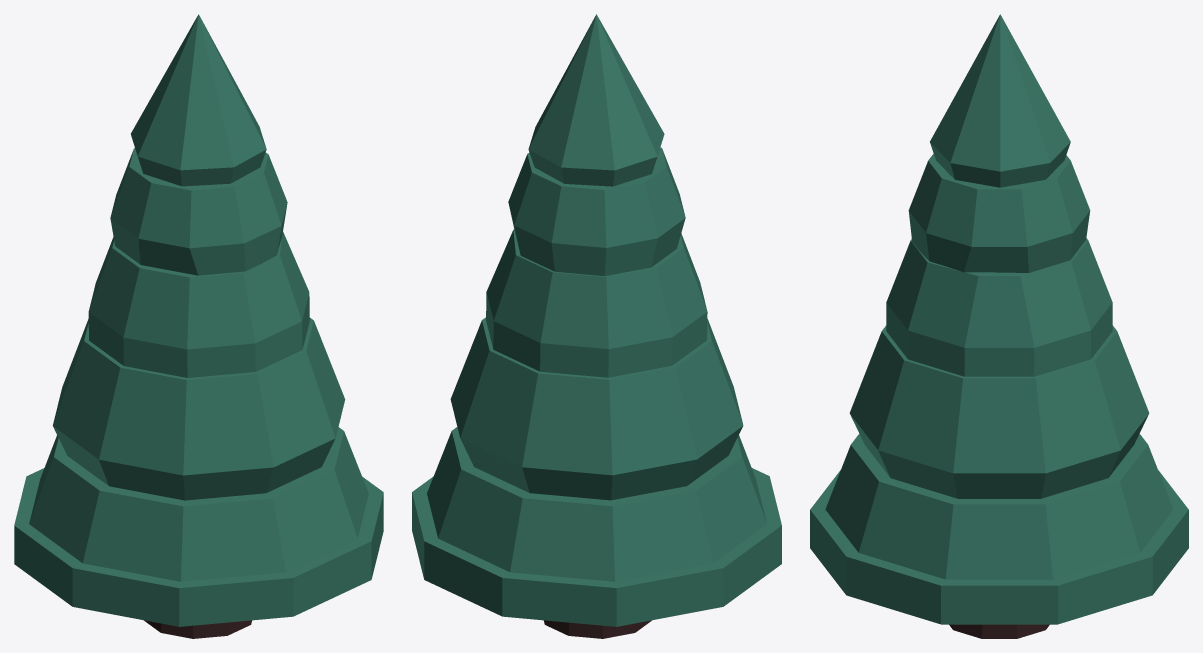
The model's file is arvore_grande[1].fbx.
3 views of the same model, side by side, from view 1: azimuth 30°, elevation 25°; view 2: azimuth 150°, elevation 25°; view 3: azimuth 270°, elevation 25° (orthographic).
Visible parts, largest first — view 1: Cylinder.001, Cylinder.002, Cylinder.004, Cylinder.006, Cone, Cylinder; view 2: Cylinder.001, Cylinder.002, Cylinder.004, Cylinder.006, Cone, Cylinder; view 3: Cylinder.001, Cylinder.002, Cylinder.004, Cylinder.006, Cone, Cylinder.
Boxes of the visible parts, x1,y1,x2,y2 form: Cylinder.001: (14, 427, 383, 626); Cylinder.002: (52, 317, 345, 500); Cylinder.004: (88, 232, 309, 377); Cylinder.006: (110, 148, 287, 275); Cone: (131, 14, 266, 186); Cylinder: (144, 620, 251, 638); Cylinder.001: (412, 427, 781, 626); Cylinder.002: (450, 317, 743, 500); Cylinder.004: (486, 229, 707, 377); Cylinder.006: (508, 147, 685, 276); Cone: (528, 14, 664, 186); Cylinder: (543, 620, 651, 638); Cylinder.001: (810, 433, 1188, 624); Cylinder.002: (849, 325, 1149, 498); Cylinder.004: (886, 238, 1112, 376); Cylinder.006: (908, 153, 1090, 272); Cone: (930, 14, 1070, 187); Cylinder: (949, 624, 1049, 638).
Size of the model in its own units: 629 by 1161 by 662.
